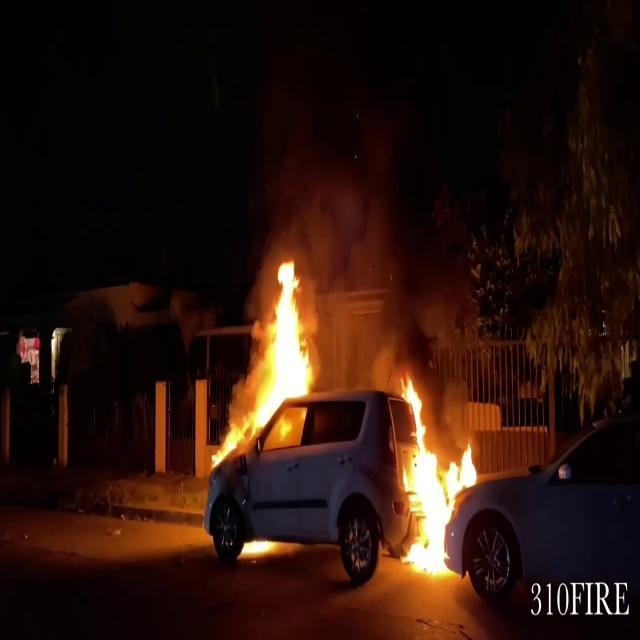Fire: (223, 254, 322, 449), (397, 374, 475, 578)
Smoke: (238, 58, 469, 369)
